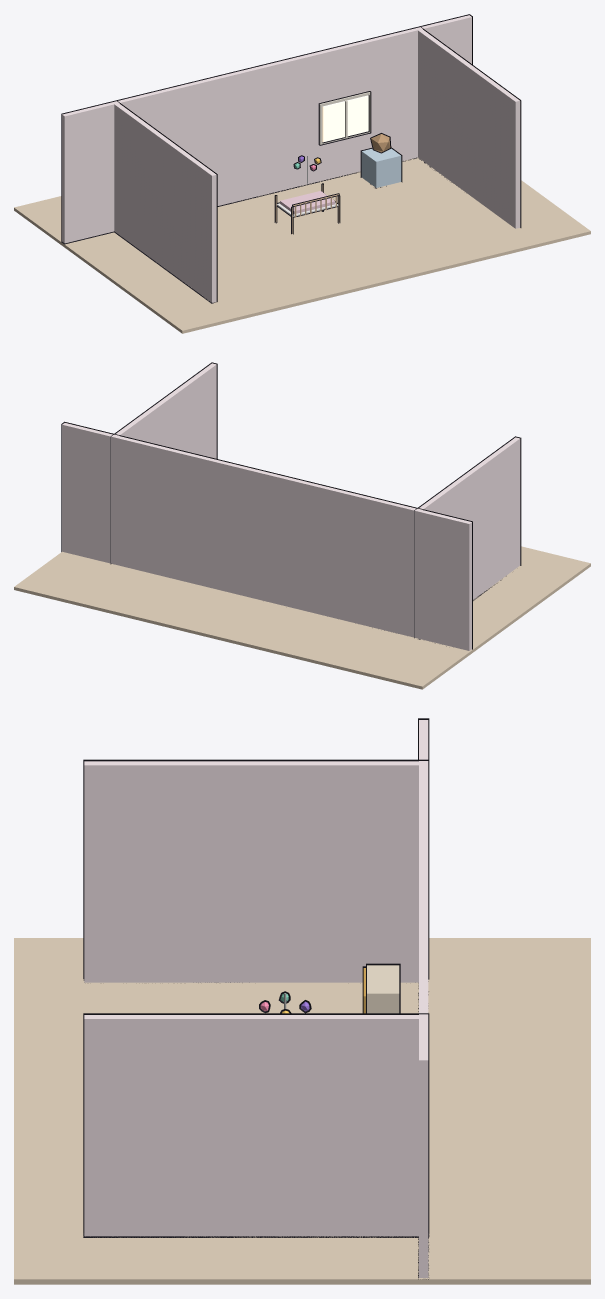
The model's file is cut-nursery.glb.
The picture shows the model from 3 angles, top to bottom: view 1: azimuth 30°, elevation 25°; view 2: azimuth 150°, elevation 25°; view 3: azimuth 270°, elevation 25°; orthographic projection. The views are drawn at different scales.
Visible parts, largest first — view 1: Cube.175, Cube.176, Cube.177, Cube.178, Cube.185, Cube.187, Cube.184, Cube.181; view 2: Cube.176, Cube.175, Cube.177, Cube.178; view 3: Cube.175, Cube.178, Cube.177, Cube.176, Cube.182.
Part boxes in pixels (bbox=[...]): Cube.175: bbox=[14, 157, 590, 333]; Cube.176: bbox=[61, 14, 472, 244]; Cube.177: bbox=[114, 100, 217, 303]; Cube.178: bbox=[418, 26, 521, 228]; Cube.185: bbox=[322, 95, 369, 143]; Cube.187: bbox=[360, 147, 402, 188]; Cube.184: bbox=[318, 91, 371, 145]; Cube.181: bbox=[280, 191, 334, 214]; Cube.176: bbox=[61, 421, 472, 650]; Cube.175: bbox=[14, 546, 590, 689]; Cube.177: bbox=[414, 436, 521, 639]; Cube.178: bbox=[110, 362, 217, 564]; Cube.175: bbox=[14, 938, 590, 1284]; Cube.178: bbox=[83, 1013, 429, 1237]; Cube.177: bbox=[83, 759, 429, 982]; Cube.176: bbox=[418, 718, 429, 1279]; Cube.182: bbox=[366, 963, 400, 1013].
Bounding box in the file's own units: 14 × 4.3 × 10.
